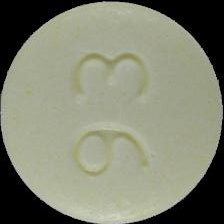0093-5276: (0, 0, 224, 224)
